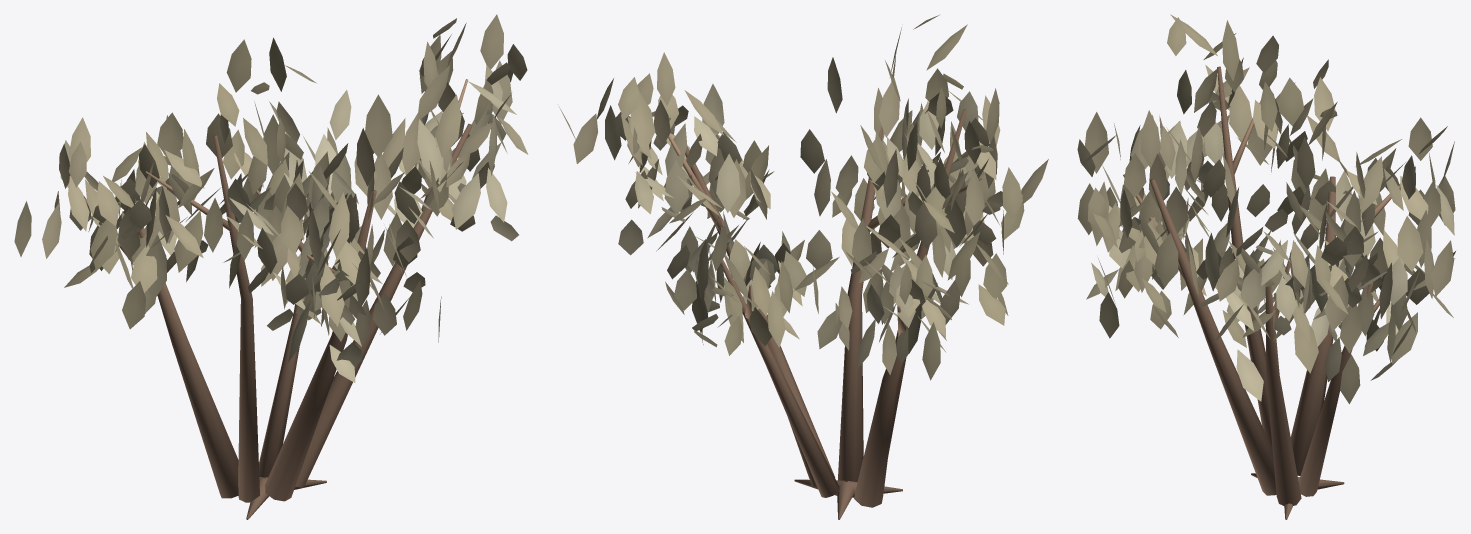
File: bush_3d_03_golden_beige.glb
The picture shows the model from 3 angles, left to right: view 1: azimuth 30°, elevation 25°; view 2: azimuth 150°, elevation 25°; view 3: azimuth 270°, elevation 25°; orthographic projection. The views are drawn at different scales.
Visible parts, largest first — view 1: bush_3d_03_golden_beige_foliage, bush_3d_03_golden_beige_wood; view 2: bush_3d_03_golden_beige_foliage, bush_3d_03_golden_beige_wood; view 3: bush_3d_03_golden_beige_foliage, bush_3d_03_golden_beige_wood.
Boxes of the visible parts, left/top/right/bottom form: bush_3d_03_golden_beige_foliage: left=14, top=14, right=528, bottom=382; bush_3d_03_golden_beige_wood: left=84, top=79, right=472, bottom=519; bush_3d_03_golden_beige_foliage: left=559, top=14, right=1048, bottom=380; bush_3d_03_golden_beige_wood: left=654, top=109, right=982, bottom=519; bush_3d_03_golden_beige_foliage: left=1077, top=14, right=1455, bottom=403; bush_3d_03_golden_beige_wood: left=1123, top=66, right=1405, bottom=519.
Bounding box in the file's own units: 2.02 × 2.07 × 1.54.
